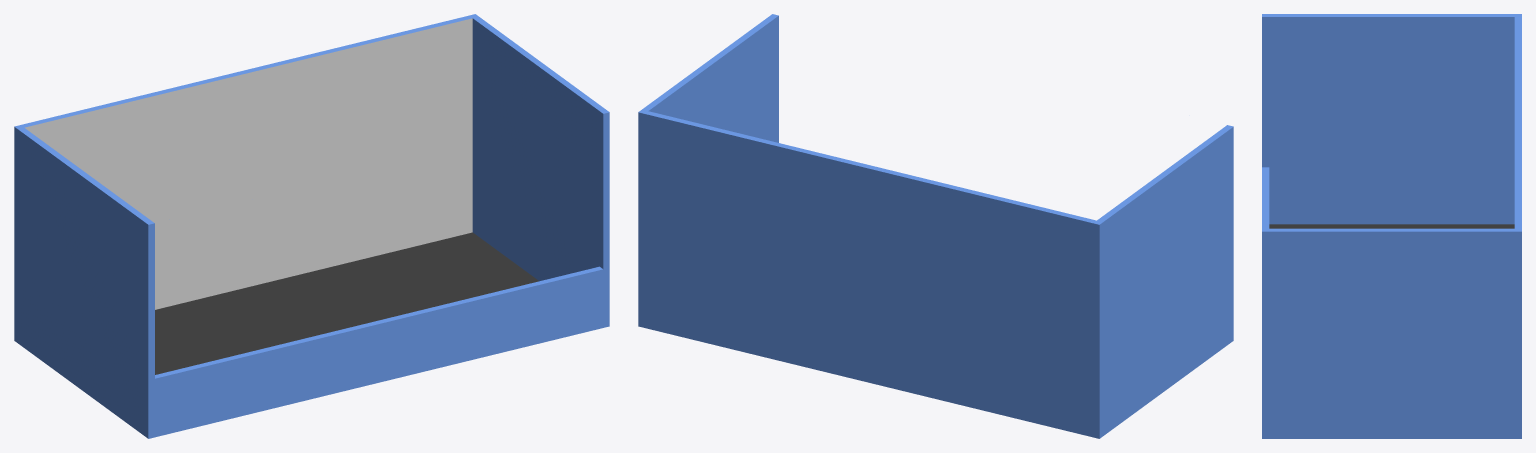
File: stallUnwrapped.fbx
The picture shows the model from 3 angles, left to right: view 1: azimuth 30°, elevation 25°; view 2: azimuth 150°, elevation 25°; view 3: azimuth 270°, elevation 25°; orthographic projection. The views are drawn at different scales.
Parts seen in each view (by area): view 1: Stall_body_unwrapped; view 2: Stall_body_unwrapped; view 3: Stall_body_unwrapped.
Boxes of the visible parts, <box> form: Stall_body_unwrapped: <box>14,14,609,438</box>; Stall_body_unwrapped: <box>638,14,1233,438</box>; Stall_body_unwrapped: <box>1262,14,1521,438</box>.
Size of the model in its own units: 823 by 365 by 415.
